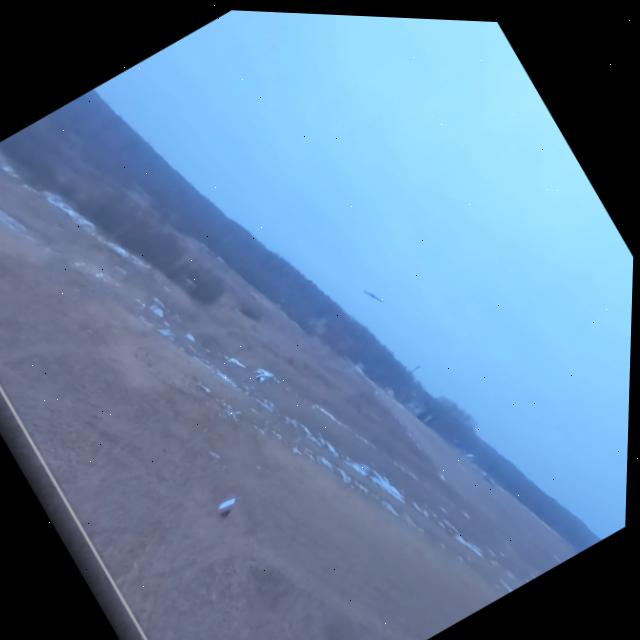planedrone: (358, 281, 386, 311)
